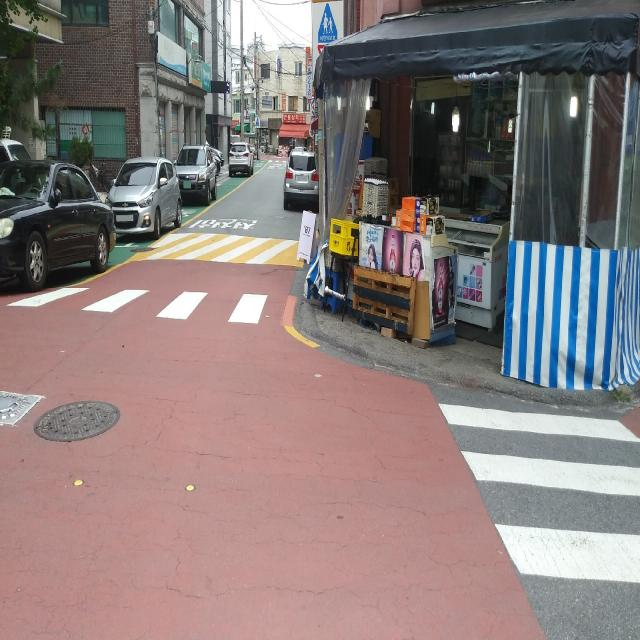횡단보도: (436, 400, 640, 588), (6, 273, 271, 332)
